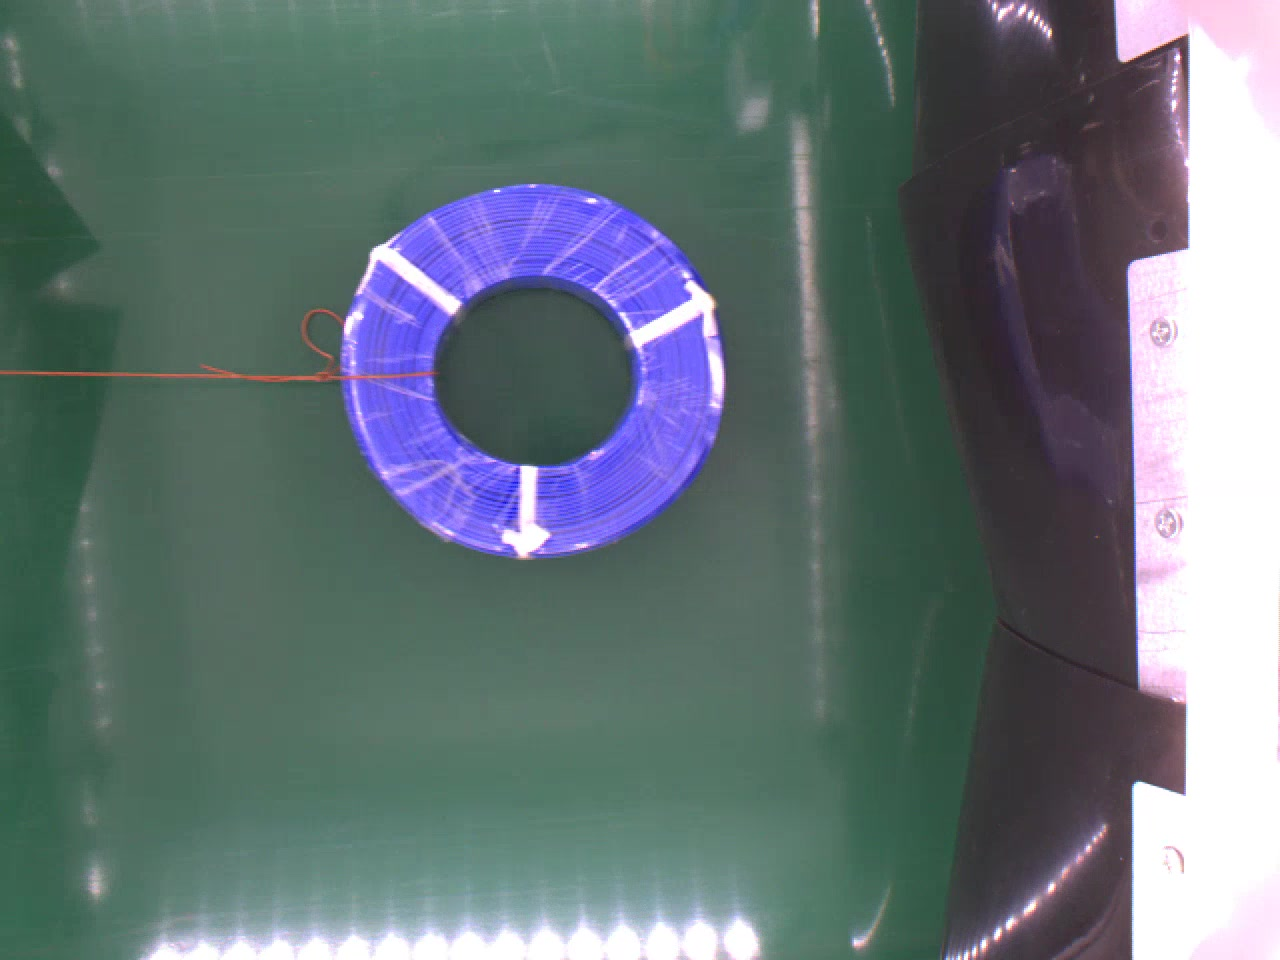blue: (341, 179, 733, 557)
